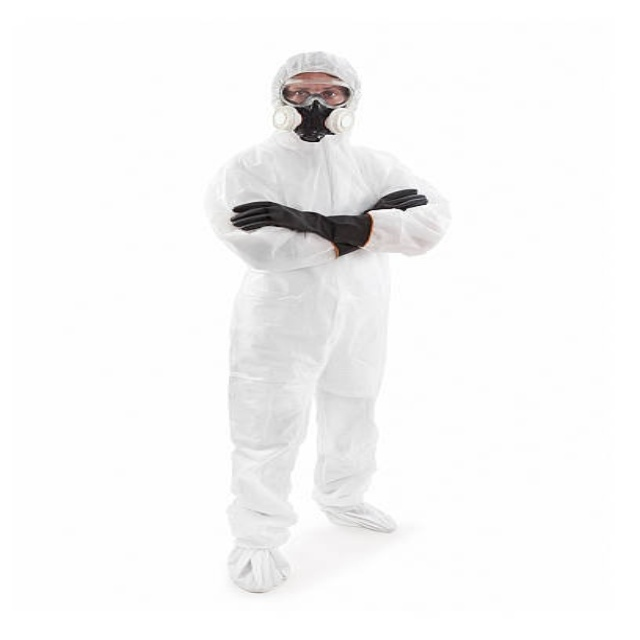Gafas: (281, 85, 351, 107)
Guantes: (227, 198, 365, 253), (369, 184, 431, 212)
Mascara: (270, 95, 358, 142)
